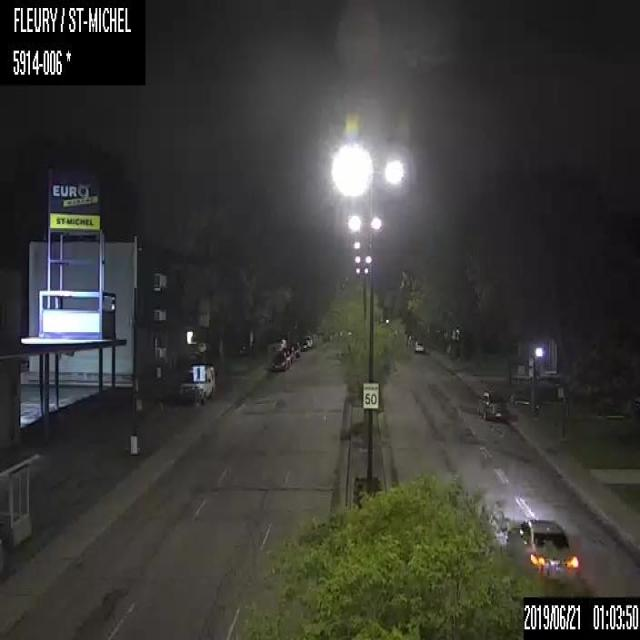vehicle: (507, 515, 579, 580), (177, 364, 217, 404), (474, 386, 508, 418), (271, 350, 288, 370), (412, 340, 423, 349)
